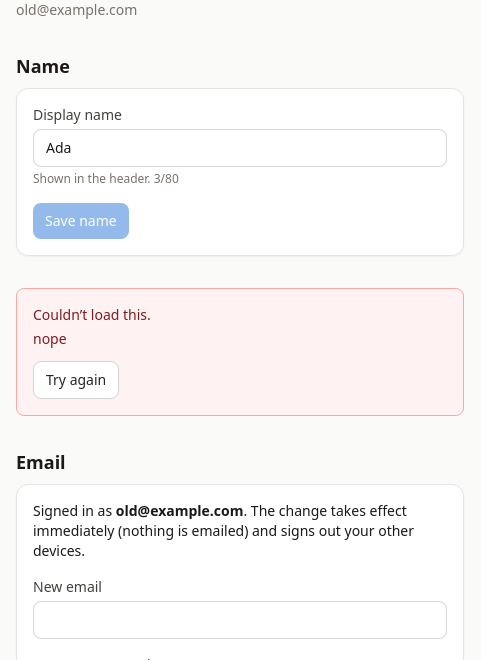
Test case: Email section › shows a 409 inline on the email field
Type "taken@example.com" into the field labelled "New email" at (240, 620), box [33,601,447,639]
(page scrolled)
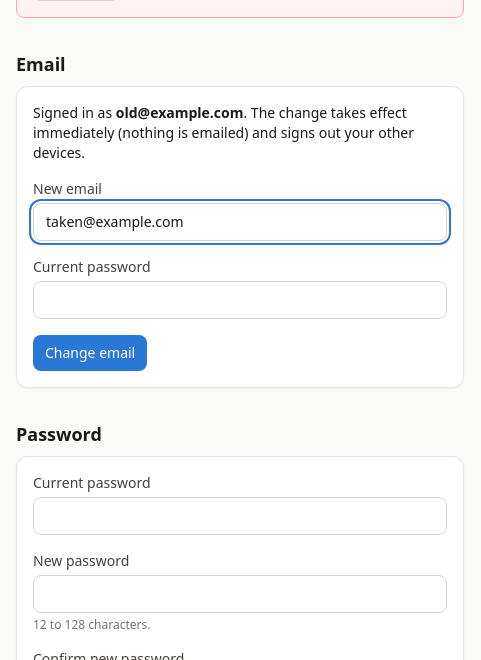
Type "my-password-123" into the password field labelled "Current password" below "New email" at (240, 300), box [33,281,447,319]
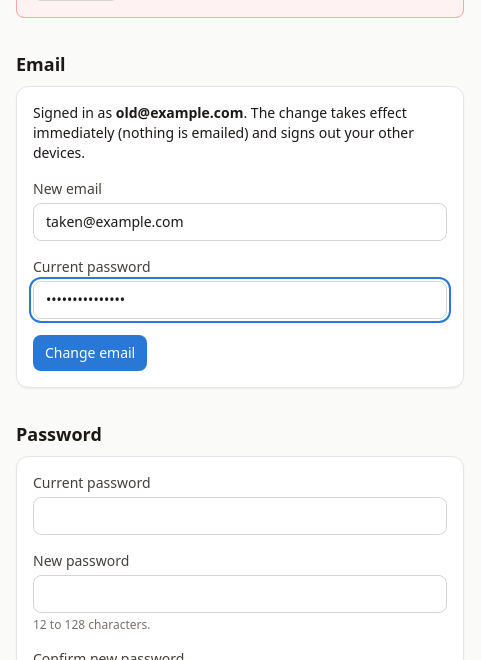
Click the button "Change email" at (90, 353), box [33,335,147,371]
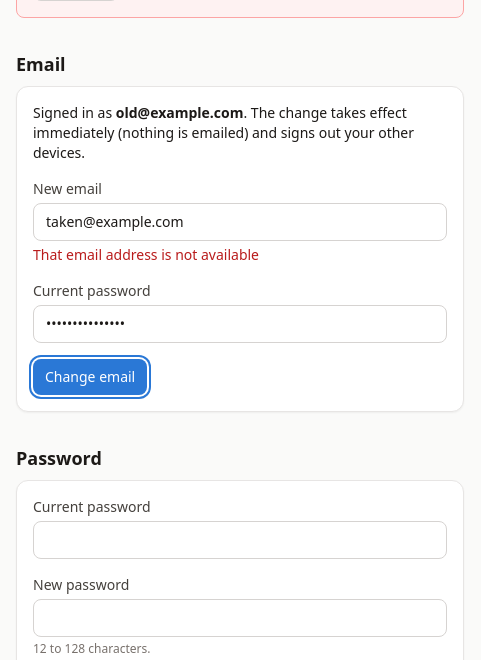
Check: the text "That email address is not available" is shown, box [33,245,259,264]
